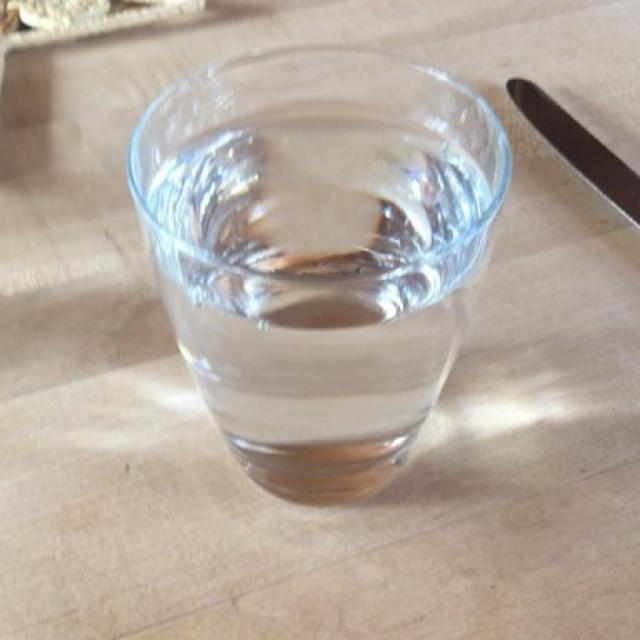water: (153, 106, 490, 326)
